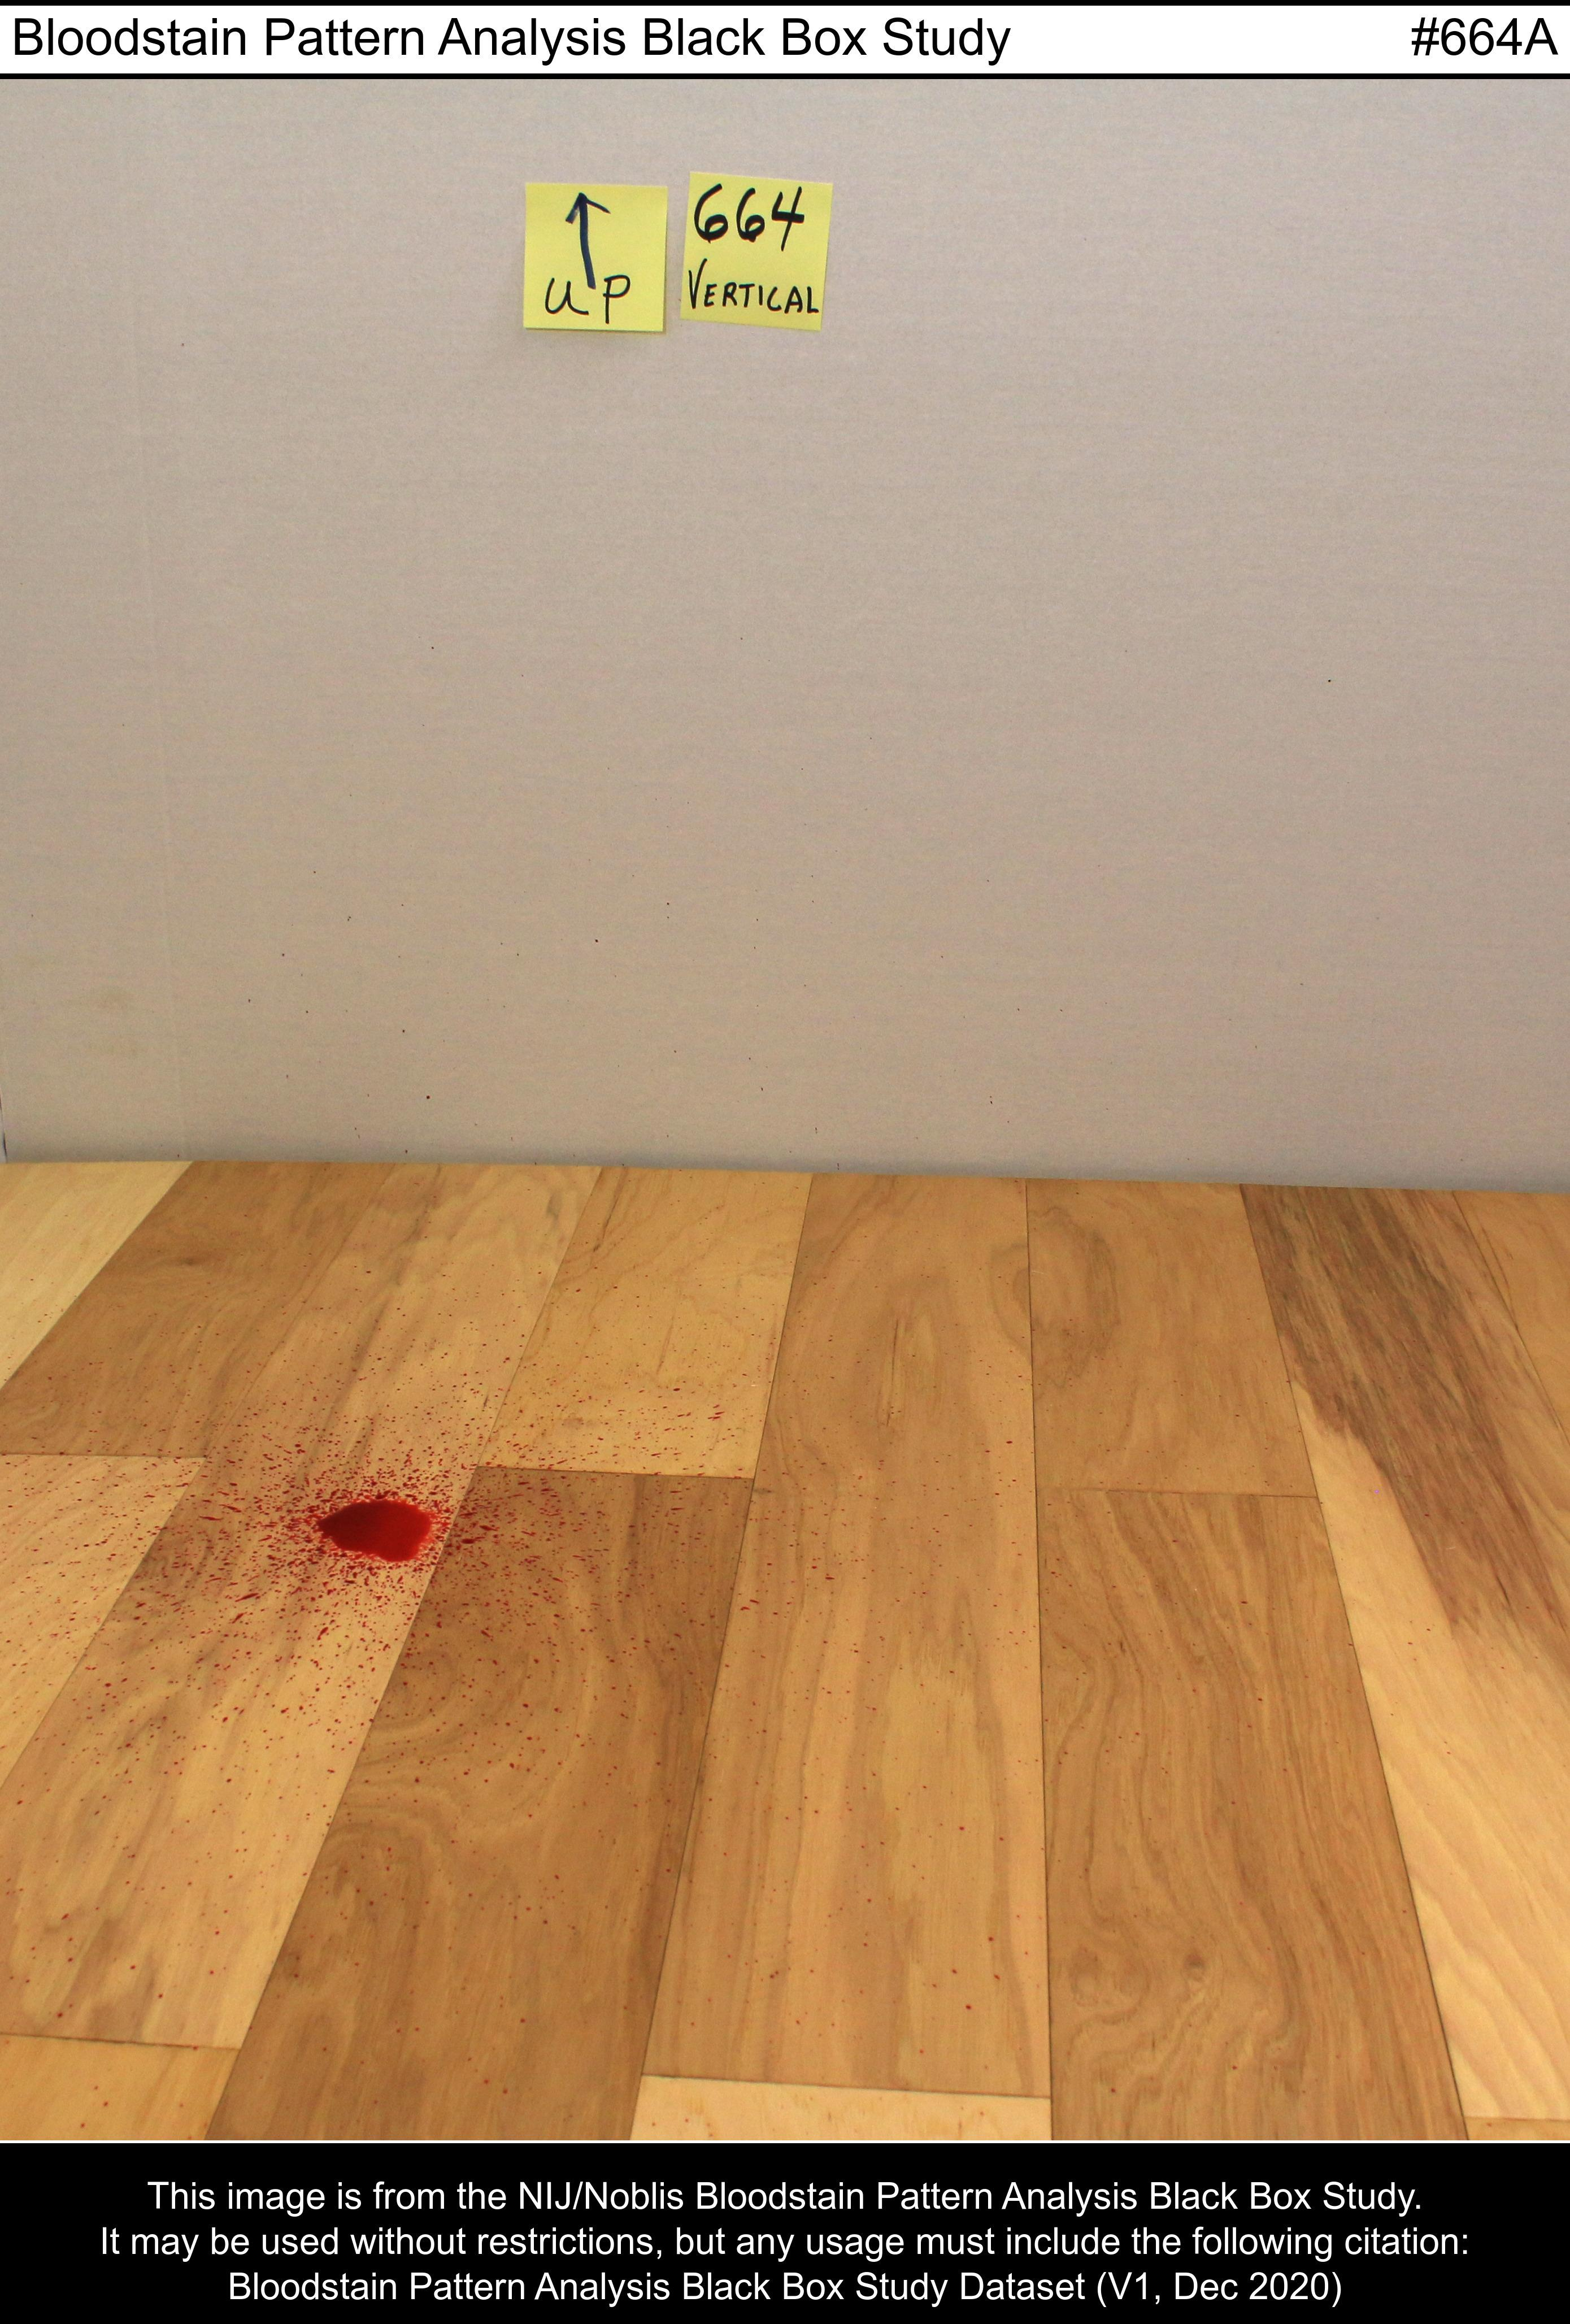Passive: (5, 1271, 1039, 1772)
